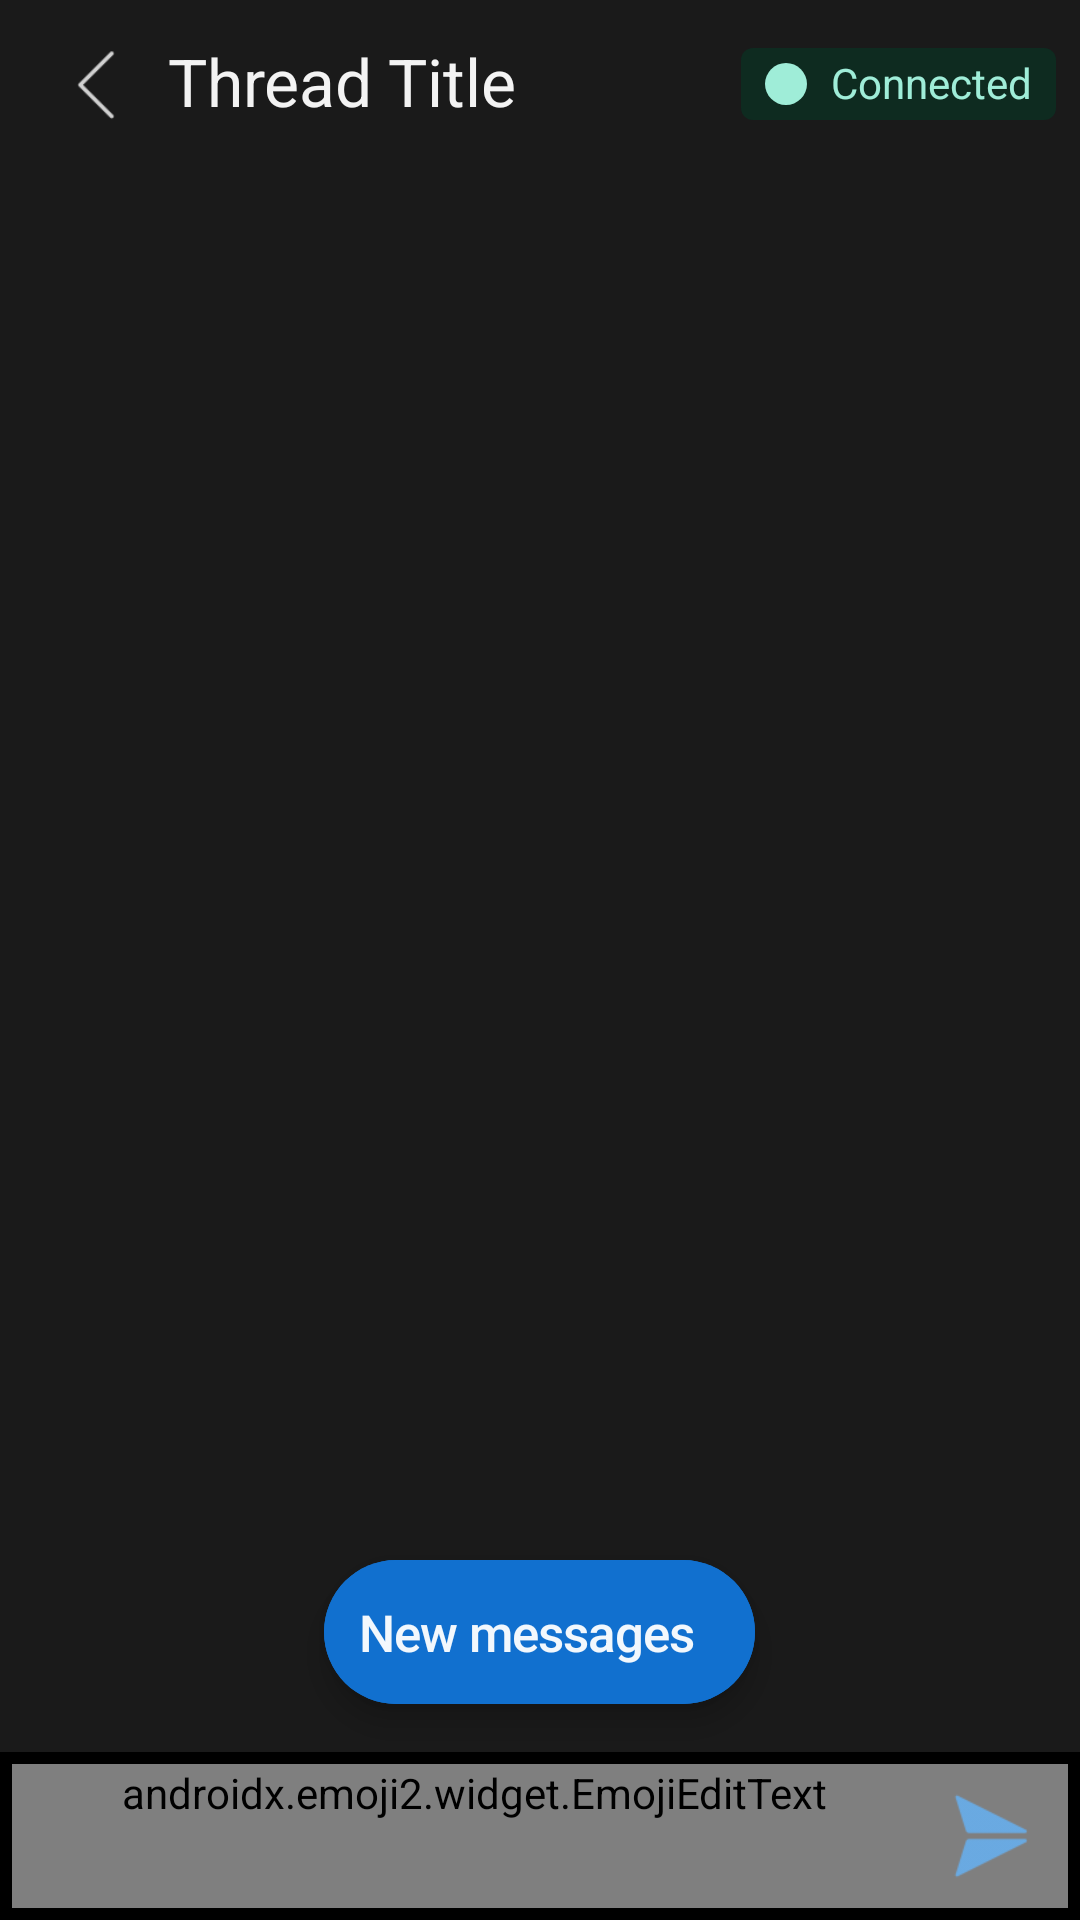

Screen size 1080px x 1920px. Icon name, then its center in pixels as point (x, y):
back: point (96, 85)
send: point (996, 1836)
